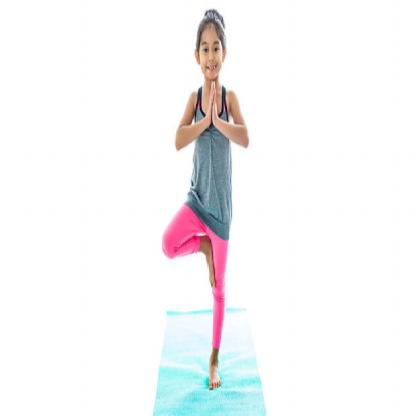tree: (157, 2, 252, 400)
